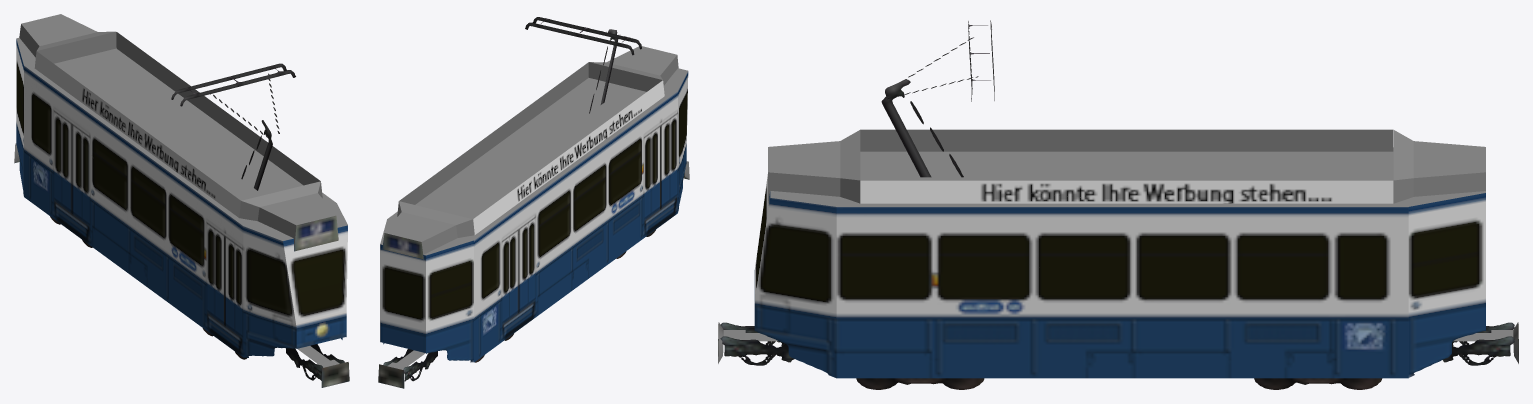
File: tram2000_small.obj
3 views of the same model, side by side, from view 1: azimuth 30°, elevation 25°; view 2: azimuth 150°, elevation 25°; view 3: azimuth 270°, elevation 25° (orthographic). The views are drawn at different scales.
Visible parts, largest first — view 1: tram2000_small; view 2: tram2000_small; view 3: tram2000_small.
Boxes of the visible parts, left/top/right/bottom form: tram2000_small: left=14, top=14, right=349, bottom=387; tram2000_small: left=378, top=17, right=689, bottom=388; tram2000_small: left=718, top=20, right=1518, bottom=389.
Bounding box in the file's own units: 0.1357 × 0.2473 × 0.5708.
